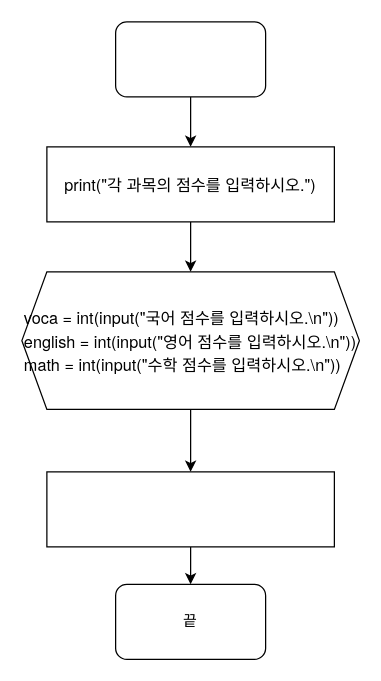
Some shapes in this 381 by 681 pixel diagram are drawn without their labels. The centre of each missing label's shape, as x and y in pixels:
print("국어 점수 : ",voca) print("영어 점수 : ",english) print(" 수학 점수 : ",math): (190,509)
시작: (190,59)
